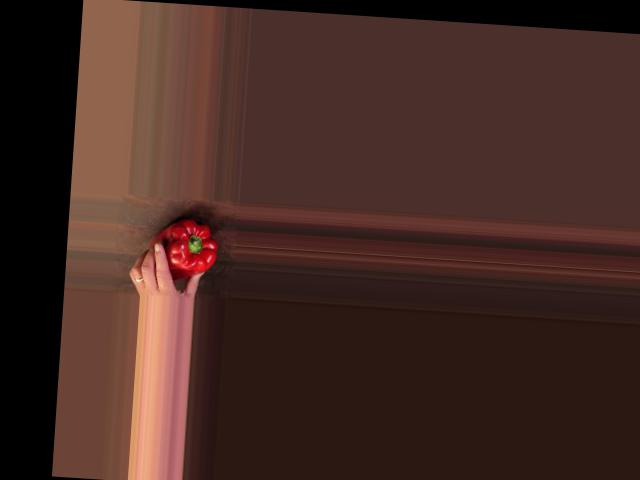bell_pepper: (154, 216, 221, 279)
